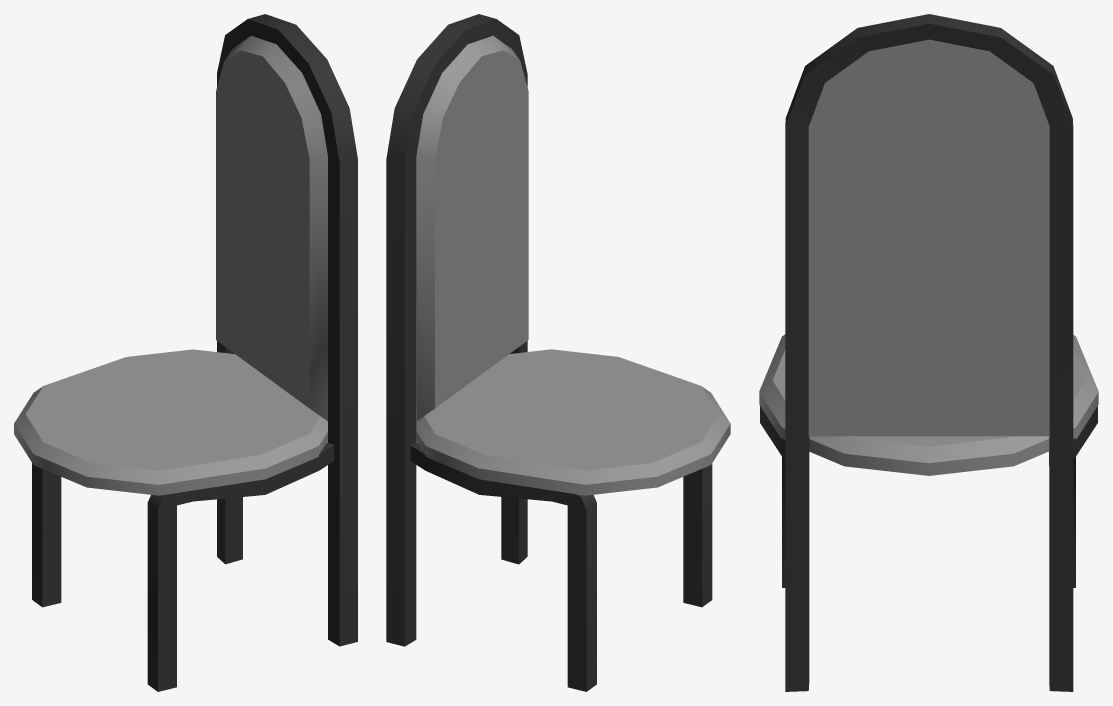
File: coffe_chair_05.fbx
3 views of the same model, side by side, from view 1: azimuth 30°, elevation 25°; view 2: azimuth 150°, elevation 25°; view 3: azimuth 270°, elevation 25° (orthographic). The views are drawn at different scales.
Visible parts, largest first — view 1: coffe_chair_05; view 2: coffe_chair_05; view 3: coffe_chair_05.
Boxes of the visible parts, bbox=[...] form: coffe_chair_05: bbox=[14, 14, 357, 691]; coffe_chair_05: bbox=[386, 14, 730, 691]; coffe_chair_05: bbox=[759, 14, 1098, 691].
Bounding box in the file's own units: 0.7335 × 1.41 × 0.647.
